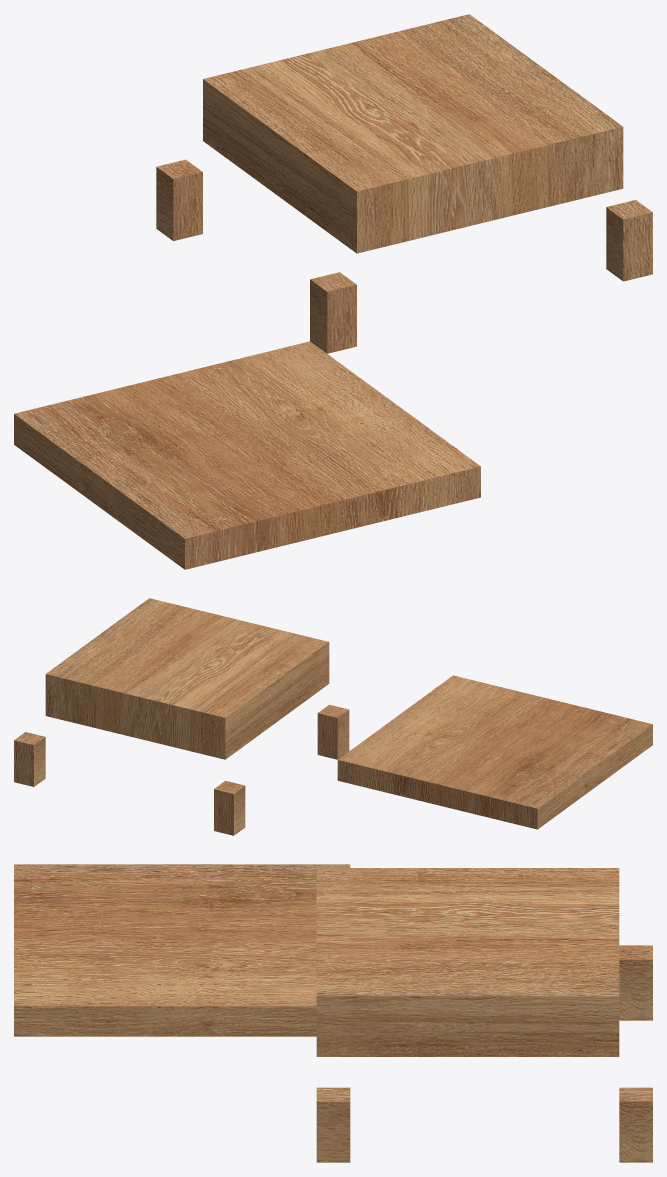
The model's file is 20005_gpt-only.glb.
The picture shows the model from 3 angles, top to bottom: view 1: azimuth 30°, elevation 25°; view 2: azimuth 150°, elevation 25°; view 3: azimuth 270°, elevation 25°; orthographic projection. The views are drawn at different scales.
Visible parts, largest first — view 1: ParentEmpty; view 2: ParentEmpty; view 3: ParentEmpty.
Boxes of the visible parts, bbox=[...] form: ParentEmpty: bbox=[14, 14, 652, 569]; ParentEmpty: bbox=[14, 598, 652, 835]; ParentEmpty: bbox=[14, 864, 652, 1162].
Bounding box in the file's own units: 1 × 0.2859 × 0.9047.
1 material, 1 textured.
